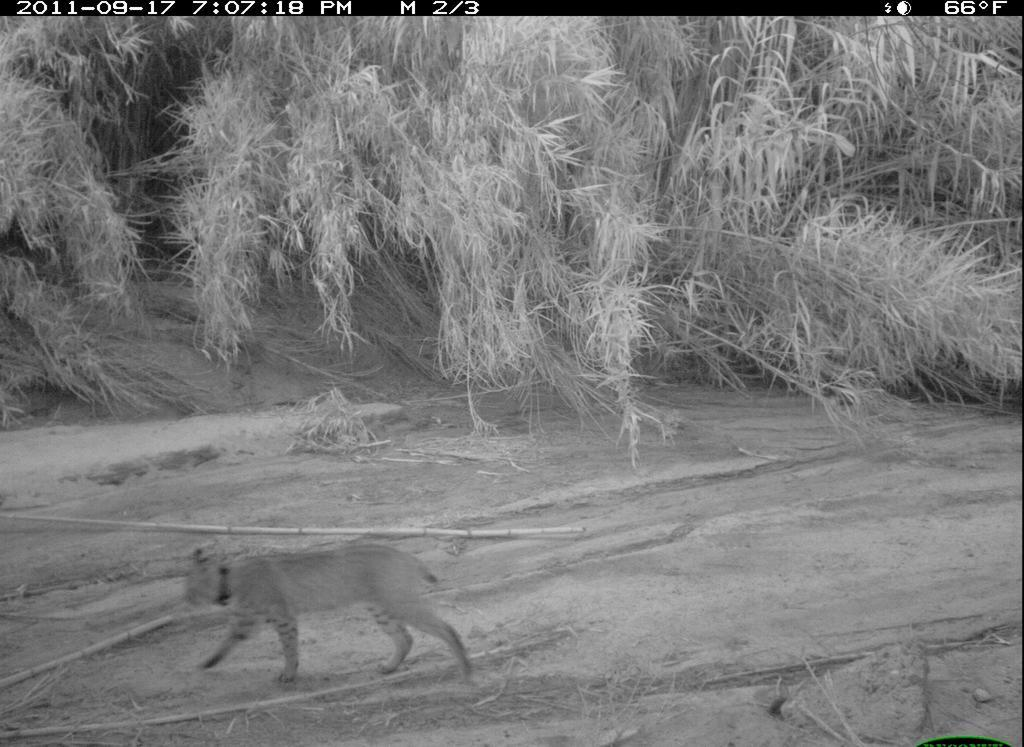bobcat: (175, 525, 487, 696)
